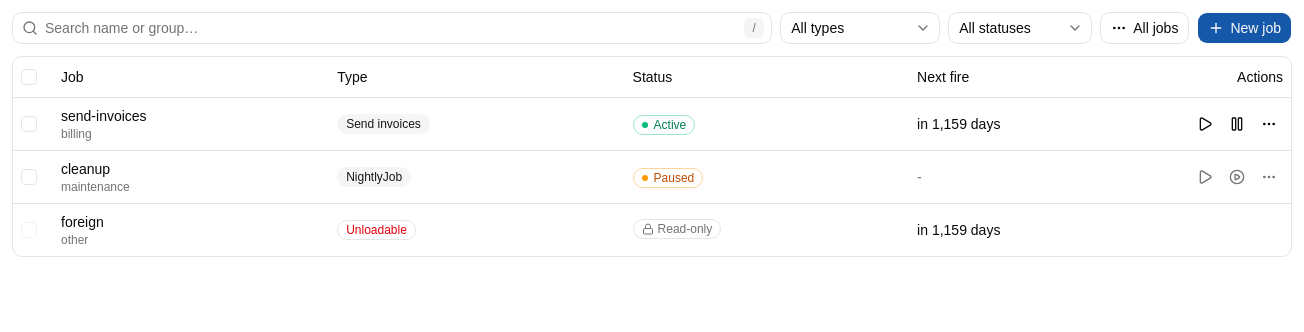
JobsTable › clears the selection from its bar, or by unticking Select all
The width and height of the screenshot is (1304, 332).
Step 1. Click the checkbox named "Select all" → (29, 77), box x1=21 y1=69 x2=37 y2=85
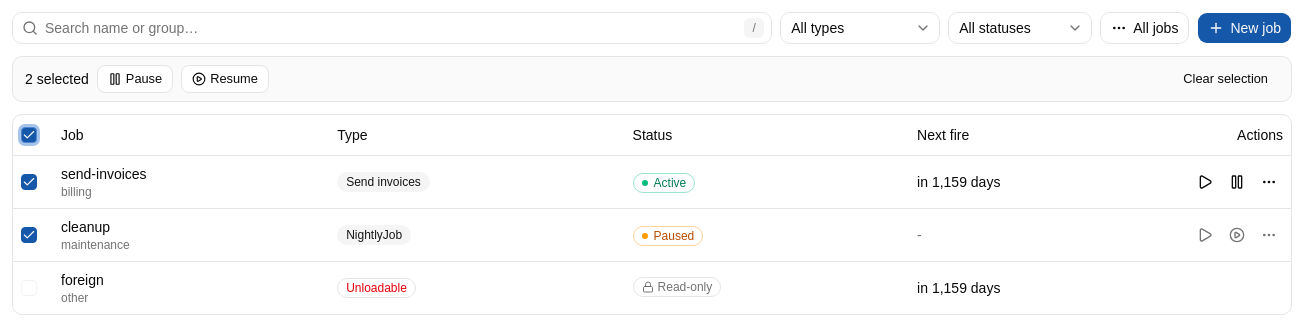
Step 2. Click the button "Clear selection" → (1226, 79), box x1=1172 y1=65 x2=1279 y2=93
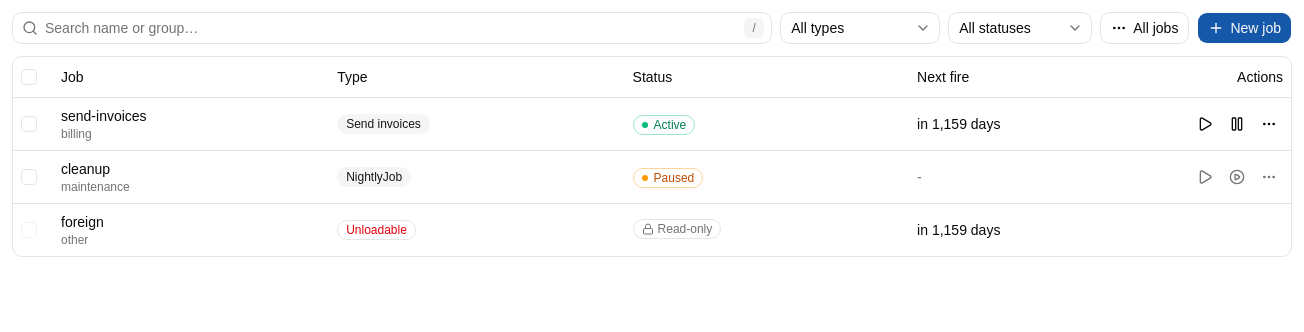
Now the text "selected" is gone
Step 3. Click the checkbox named "Select all" → (29, 77), box x1=21 y1=69 x2=37 y2=85
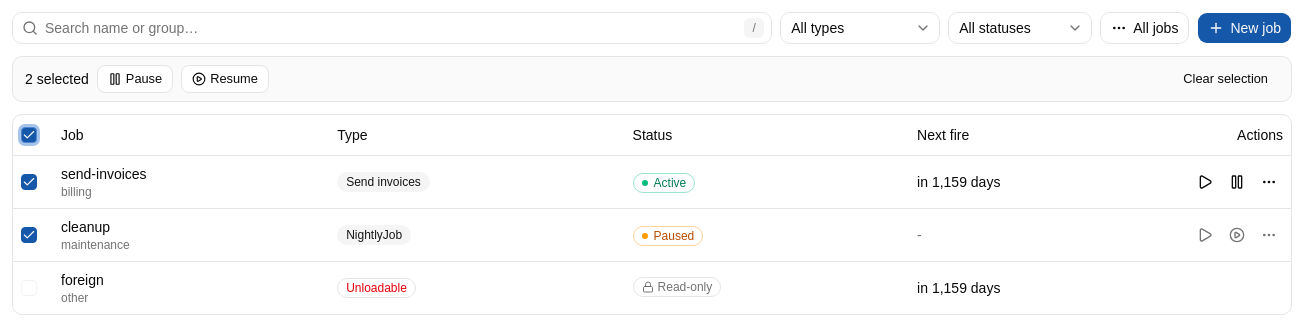
Now the text "2 selected" is shown, box x1=25 y1=69 x2=89 y2=89
Step 4. Click the checkbox named "Select all" → (29, 135), box x1=21 y1=127 x2=37 y2=143
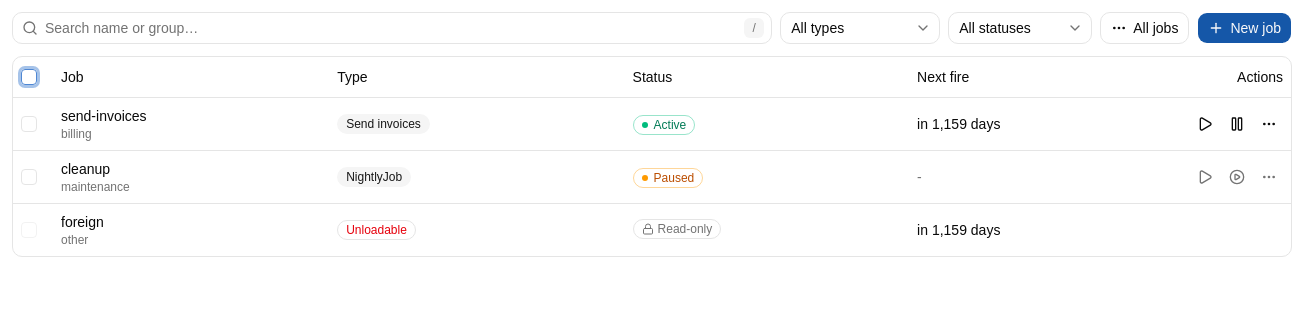
Now the checkbox named "Select all" is not checked, box x1=21 y1=69 x2=37 y2=85
Now the text "selected" is gone
